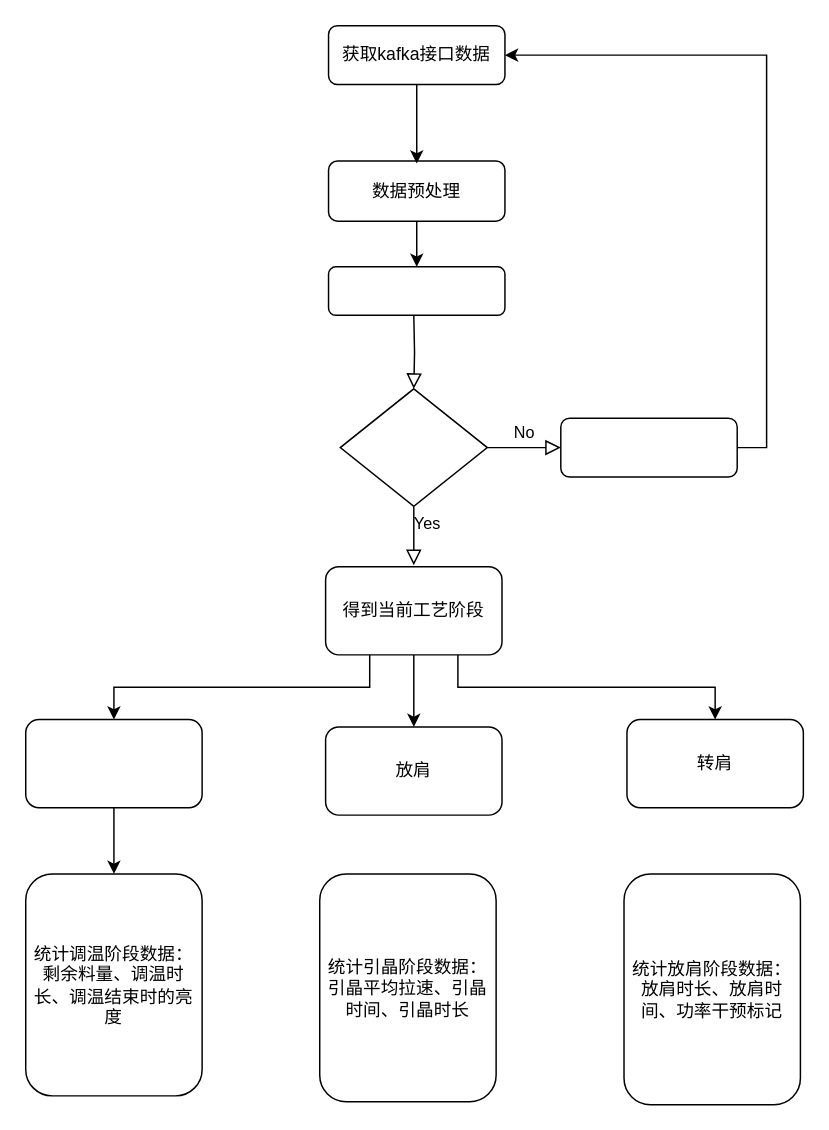
The diagram is 829 pixels wide and 1130 high, and some of its shapes have lost their labels. The centre of each missing label's shape, as x and y in pixels:
"判断工艺阶段是否变化" goes at point (413, 446).
"工艺阶段未变化" goes at point (648, 447).
"引晶" goes at point (113, 763).
"获取最后三条数据" goes at point (416, 290).
